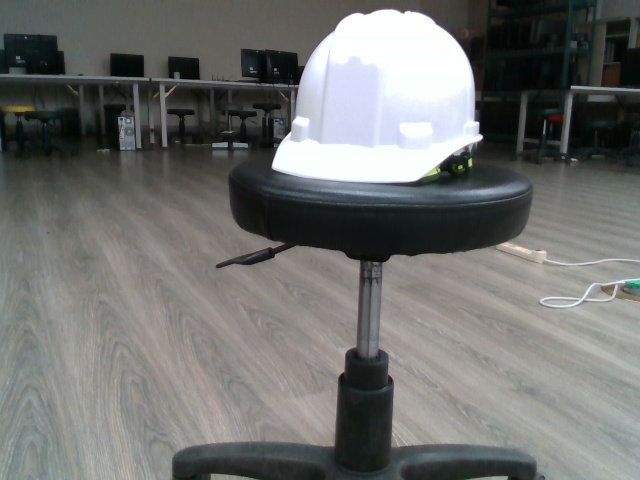helmet: (266, 7, 487, 187)
